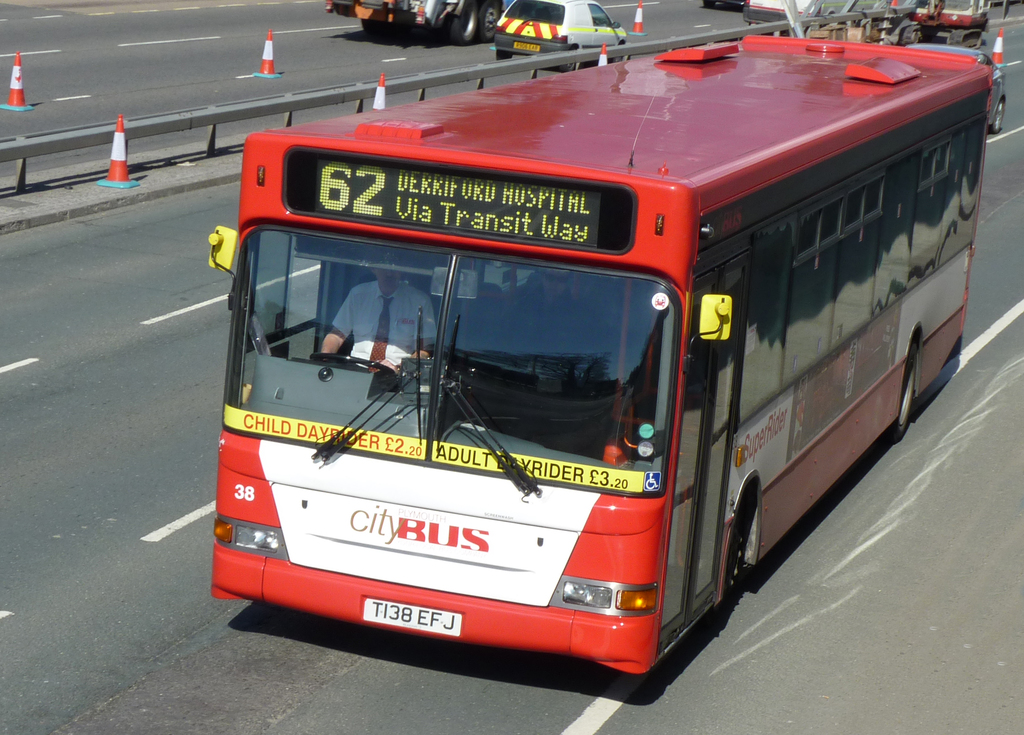Bus: (206, 33, 996, 678)
